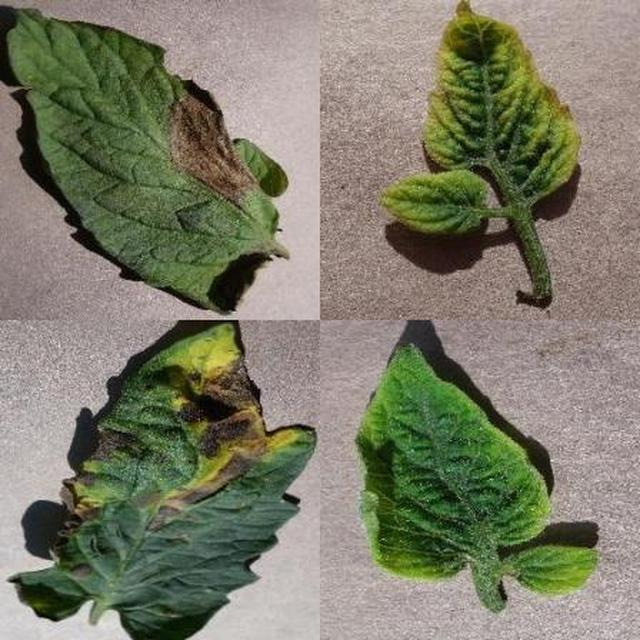Late Blight Leaf: (135, 76, 640, 640)
